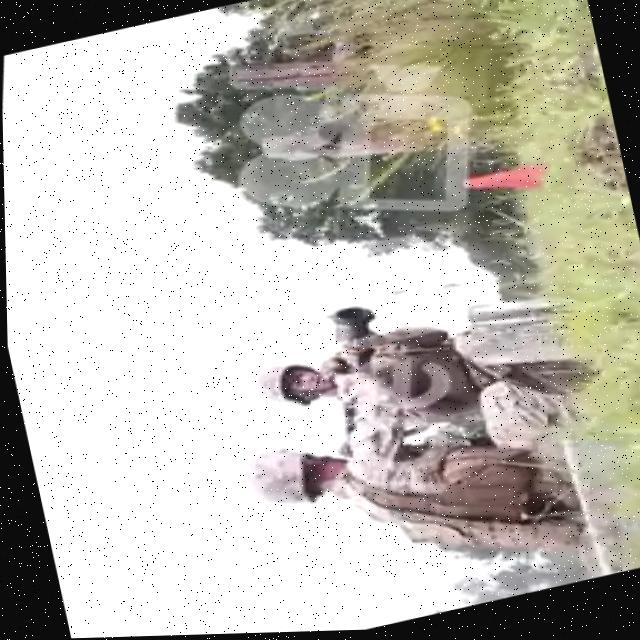rocket: (319, 298, 385, 376)
